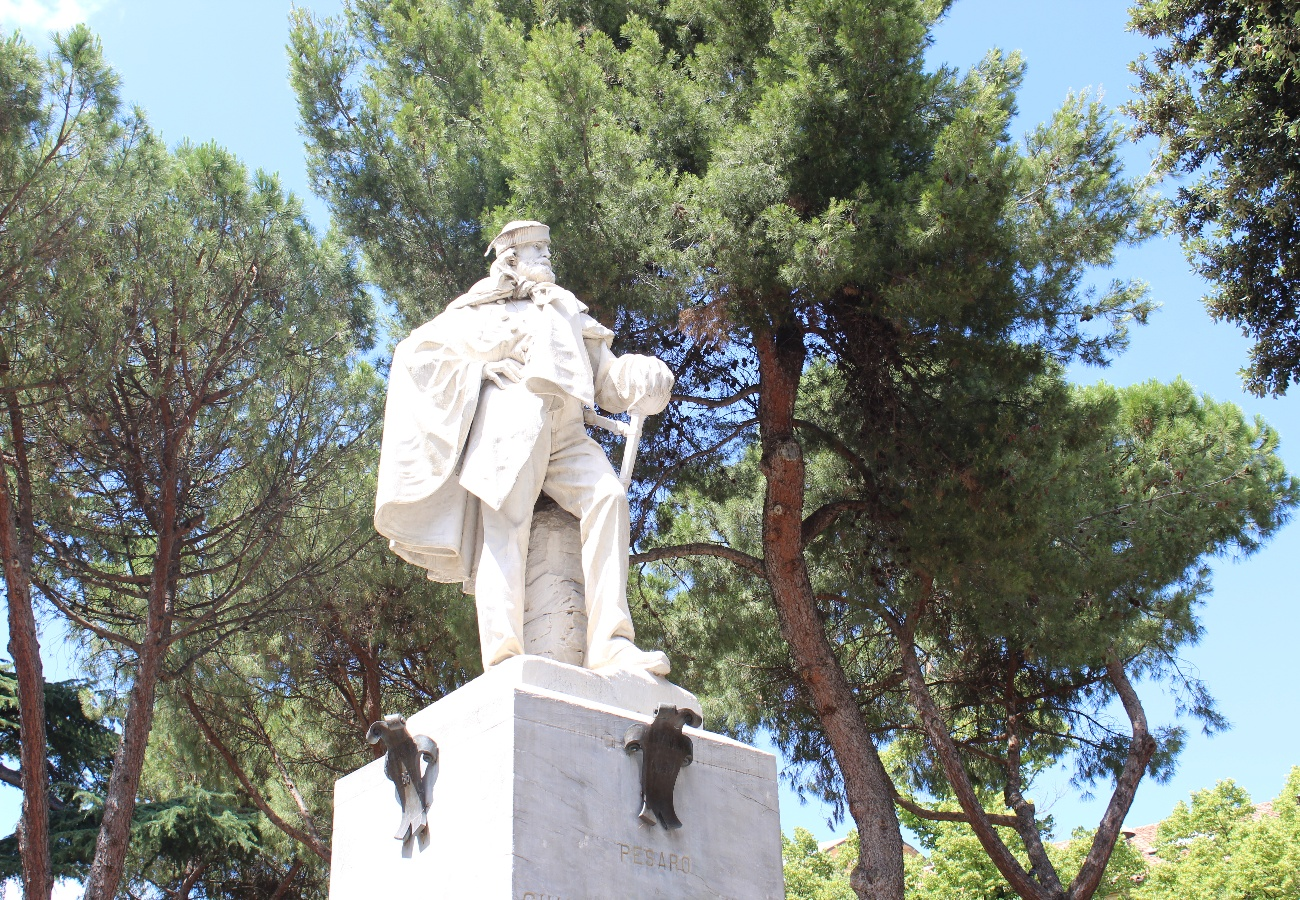Giuseppe Garibaldi: (374, 218, 676, 683)
